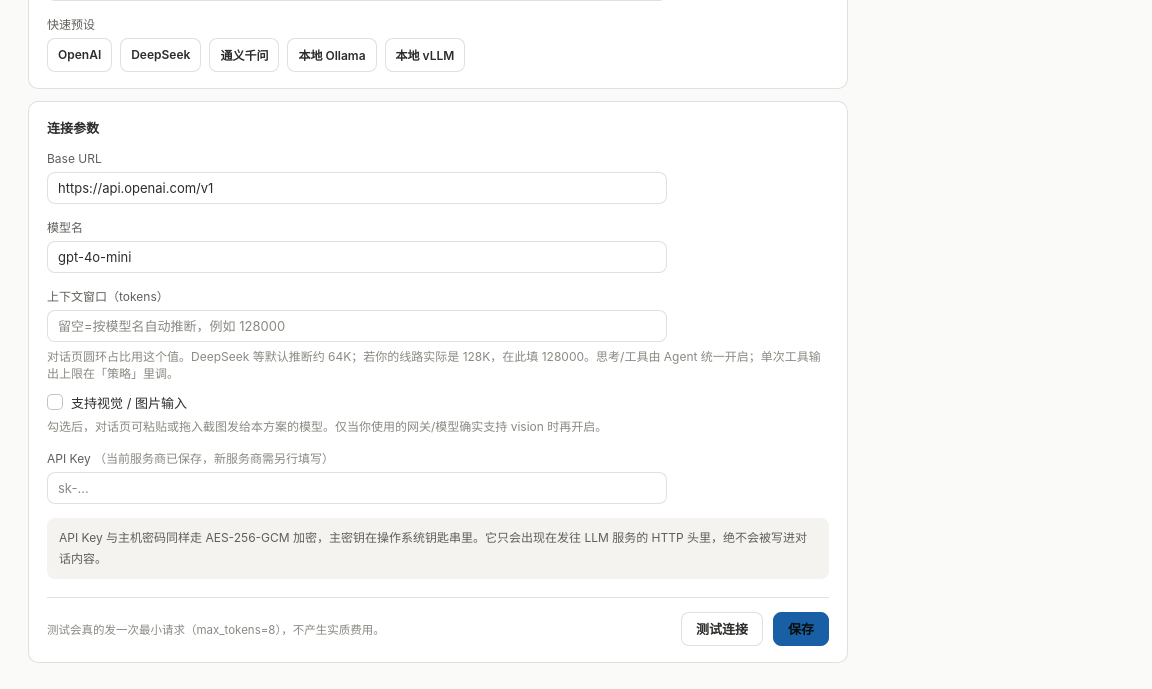
SettingsPanel 测试连接 › 成功时显示模型、耗时与模型回复 —— 证明对方真的回了话
(page scrolled)
Click the button "测试连接" at (722, 629), box left=681, top=612, right=763, bottom=646
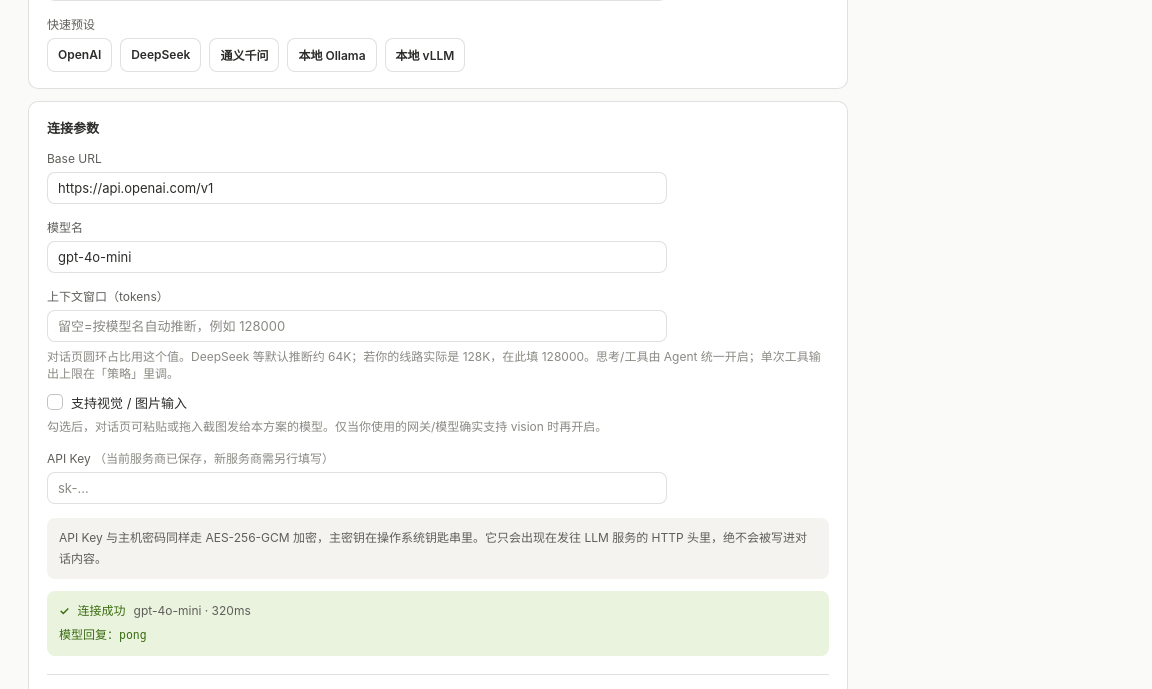
Result: the element with class "test-result" shows "连接成功" at left=78, top=603, right=126, bottom=618
Result: the element with class "test-result" shows "gpt-4o-mini" at left=134, top=603, right=251, bottom=618
Result: the element with class "test-result" shows "320ms" at left=134, top=603, right=251, bottom=618
